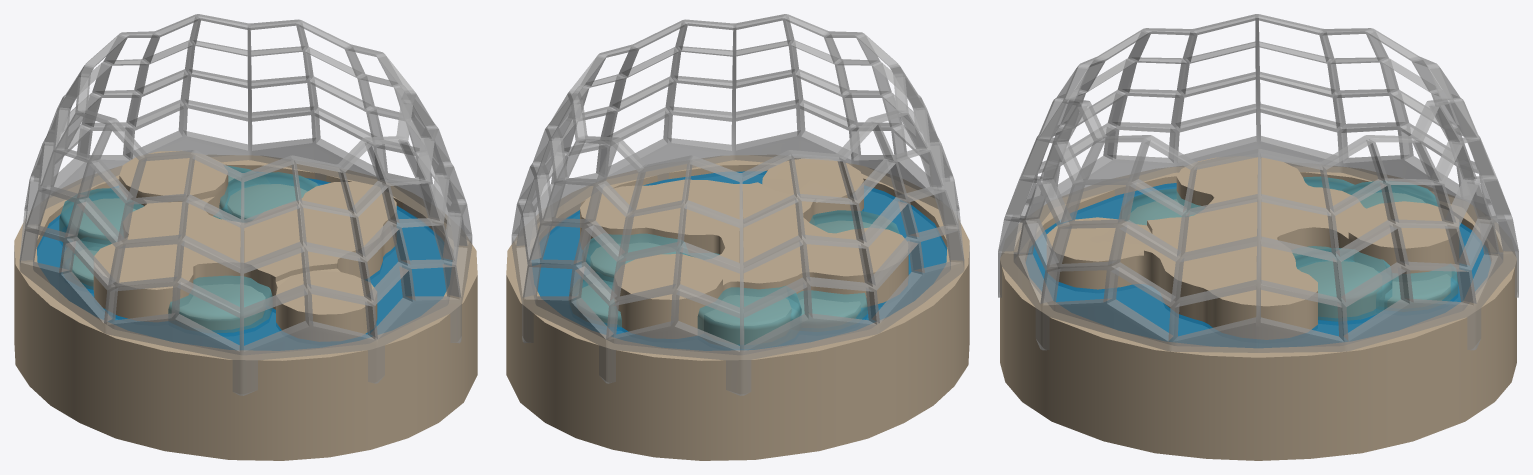
The model's file is env_butterflyGarden.fbx.
3 renders of one model, left to right at view 1: azimuth 30°, elevation 25°; view 2: azimuth 150°, elevation 25°; view 3: azimuth 270°, elevation 25°, orthographic. The views are drawn at different scales.
Visible parts, largest first — view 1: windowFrame, groundFrame, ground, groundWater, groundSteps, water3, water2, water1, water4; view 2: windowFrame, groundFrame, ground, groundWater, water2, groundSteps, water1, water4, water6, water3; view 3: windowFrame, groundFrame, ground, groundWater, water1, groundSteps, water6, water3, water2.
Part boxes in pixels (left/top/right/bottom): windowFrame: left=19, top=14, right=472, bottom=395; groundFrame: left=14, top=155, right=477, bottom=460; ground: left=93, top=150, right=396, bottom=341; groundWater: left=37, top=178, right=451, bottom=350; groundSteps: left=72, top=176, right=307, bottom=329; water3: left=168, top=275, right=272, bottom=335; water2: left=59, top=188, right=144, bottom=250; water1: left=219, top=172, right=318, bottom=221; water4: left=61, top=237, right=111, bottom=292; windowFrame: left=511, top=14, right=964, bottom=395; groundFrame: left=506, top=155, right=969, bottom=460; ground: left=580, top=158, right=908, bottom=338; groundWater: left=532, top=171, right=946, bottom=350; water2: left=697, top=285, right=801, bottom=348; groundSteps: left=581, top=221, right=871, bottom=344; water1: left=582, top=233, right=689, bottom=288; water4: left=786, top=290, right=867, bottom=331; water6: left=569, top=272, right=621, bottom=330; water3: left=809, top=210, right=899, bottom=233; windowFrame: left=998, top=14, right=1518, bottom=352; groundFrame: left=1000, top=163, right=1516, bottom=460; ground: left=1046, top=156, right=1459, bottom=339; groundWater: left=1026, top=183, right=1490, bottom=347; water1: left=1294, top=248, right=1392, bottom=324; groundSteps: left=1129, top=189, right=1450, bottom=317; water6: left=1376, top=263, right=1458, bottom=311; water3: left=1120, top=188, right=1204, bottom=225; water2: left=1341, top=180, right=1439, bottom=208.
Size of the model in its own units: 4023 by 2705 by 4502.
